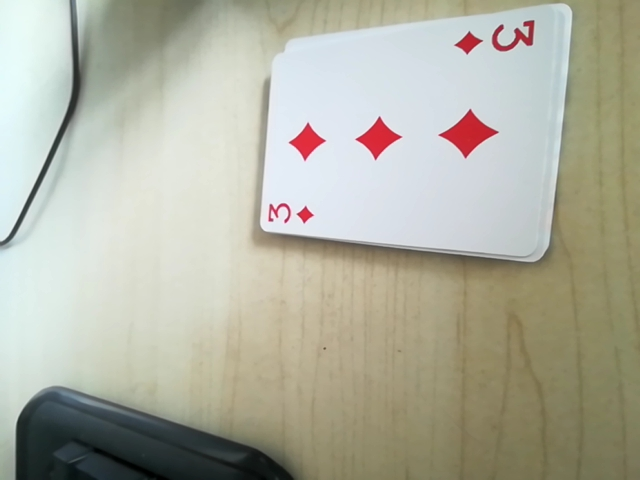fk 3: (452, 13, 542, 65), (261, 193, 321, 230)
